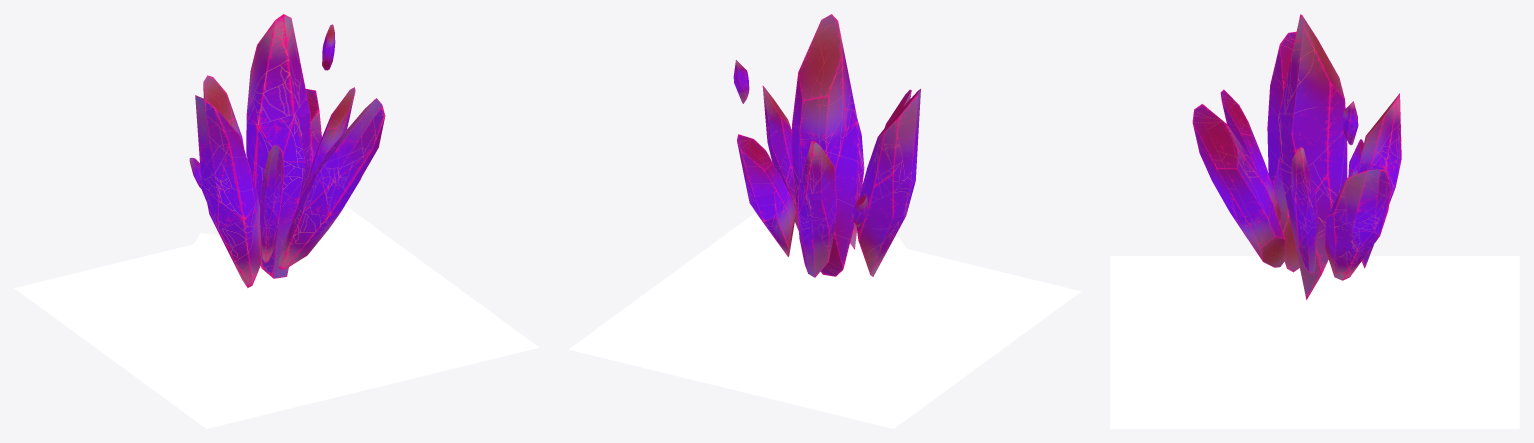
3 views of the same model, side by side, from view 1: azimuth 30°, elevation 25°; view 2: azimuth 150°, elevation 25°; view 3: azimuth 270°, elevation 25° (orthographic). The views are drawn at different scales.
Parts seen in each view (by area): view 1: pPlane1, pPlane2, crystal_lp:Mesh, Mesh_blinn1_0, Mesh3_blinn1_0, Mesh5_blinn1_0, Mesh4_blinn1_0, Mesh1_blinn1_0, Mesh2_blinn1_0; view 2: pPlane1, pPlane2, crystal_lp:Mesh, Mesh_blinn1_0, Mesh1_blinn1_0, Mesh2_blinn1_0, Mesh4_blinn1_0, Mesh3_blinn1_0; view 3: pPlane1, pPlane2, crystal_lp:Mesh, Mesh3_blinn1_0, Mesh2_blinn1_0, Mesh_blinn1_0, Mesh1_blinn1_0, Mesh4_blinn1_0, Mesh5_blinn1_0, Mesh7_blinn1_0.
Boxes of the visible parts, left/top/right/bottom form: pPlane1: left=14, top=207, right=539, bottom=428; pPlane2: left=145, top=233, right=408, bottom=344; crystal_lp:Mesh: left=246, top=14, right=310, bottom=278; Mesh_blinn1_0: left=195, top=95, right=262, bottom=287; Mesh3_blinn1_0: left=278, top=98, right=385, bottom=269; Mesh5_blinn1_0: left=260, top=145, right=284, bottom=263; Mesh4_blinn1_0: left=305, top=87, right=355, bottom=187; Mesh1_blinn1_0: left=203, top=75, right=244, bottom=148; Mesh2_blinn1_0: left=305, top=89, right=321, bottom=173; pPlane1: left=569, top=212, right=1081, bottom=428; pPlane2: left=696, top=237, right=953, bottom=346; crystal_lp:Mesh: left=791, top=14, right=858, bottom=276; Mesh_blinn1_0: left=856, top=88, right=920, bottom=276; Mesh1_blinn1_0: left=797, top=141, right=836, bottom=277; Mesh2_blinn1_0: left=737, top=134, right=796, bottom=256; Mesh4_blinn1_0: left=762, top=85, right=798, bottom=231; Mesh3_blinn1_0: left=850, top=120, right=864, bottom=249; pPlane1: left=1110, top=256, right=1519, bottom=428; pPlane2: left=1153, top=260, right=1476, bottom=379; crystal_lp:Mesh: left=1278, top=14, right=1347, bottom=300; Mesh3_blinn1_0: left=1192, top=104, right=1285, bottom=267; Mesh2_blinn1_0: left=1325, top=169, right=1391, bottom=280; Mesh_blinn1_0: left=1267, top=31, right=1299, bottom=272; Mesh1_blinn1_0: left=1357, top=93, right=1401, bottom=268; Mesh4_blinn1_0: left=1291, top=147, right=1318, bottom=273; Mesh5_blinn1_0: left=1220, top=89, right=1280, bottom=224; Mesh7_blinn1_0: left=1343, top=101, right=1358, bottom=145.
Size of the model in its own units: 146 by 129 by 146.
2 materials, 2 textured.
